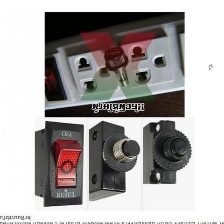three_eye_plug: (41, 11, 186, 111)
